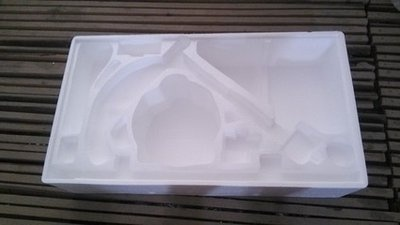5/可回收垃圾/泡沫: (41, 31, 369, 199)
